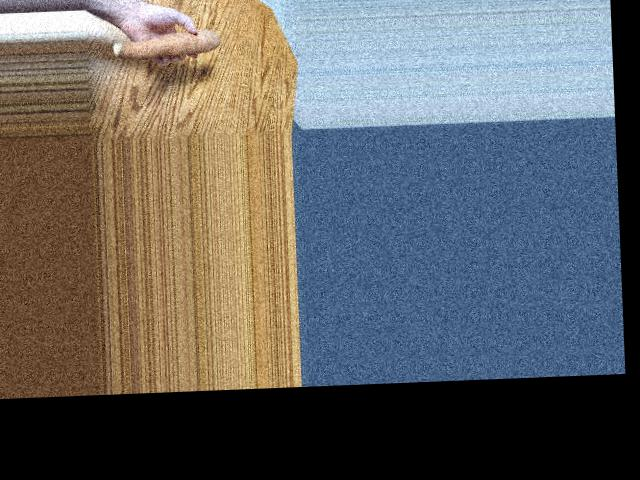sweet_potato: (121, 34, 221, 65)
